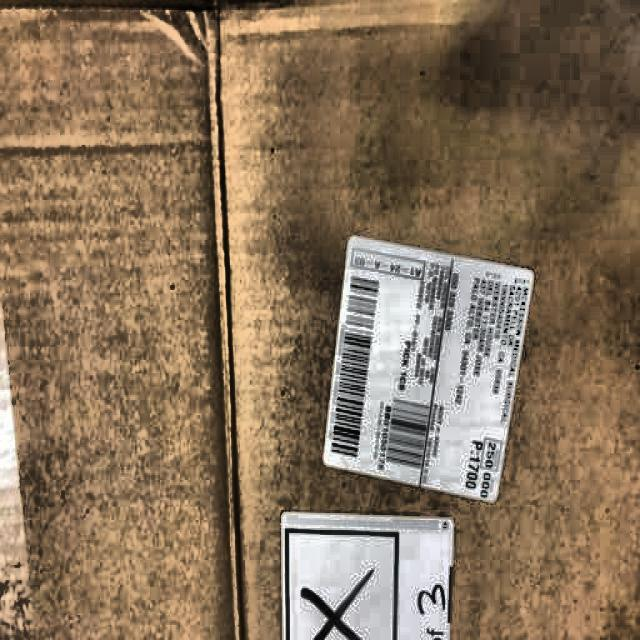cardboard: (0, 0, 244, 638), (321, 234, 534, 504)
